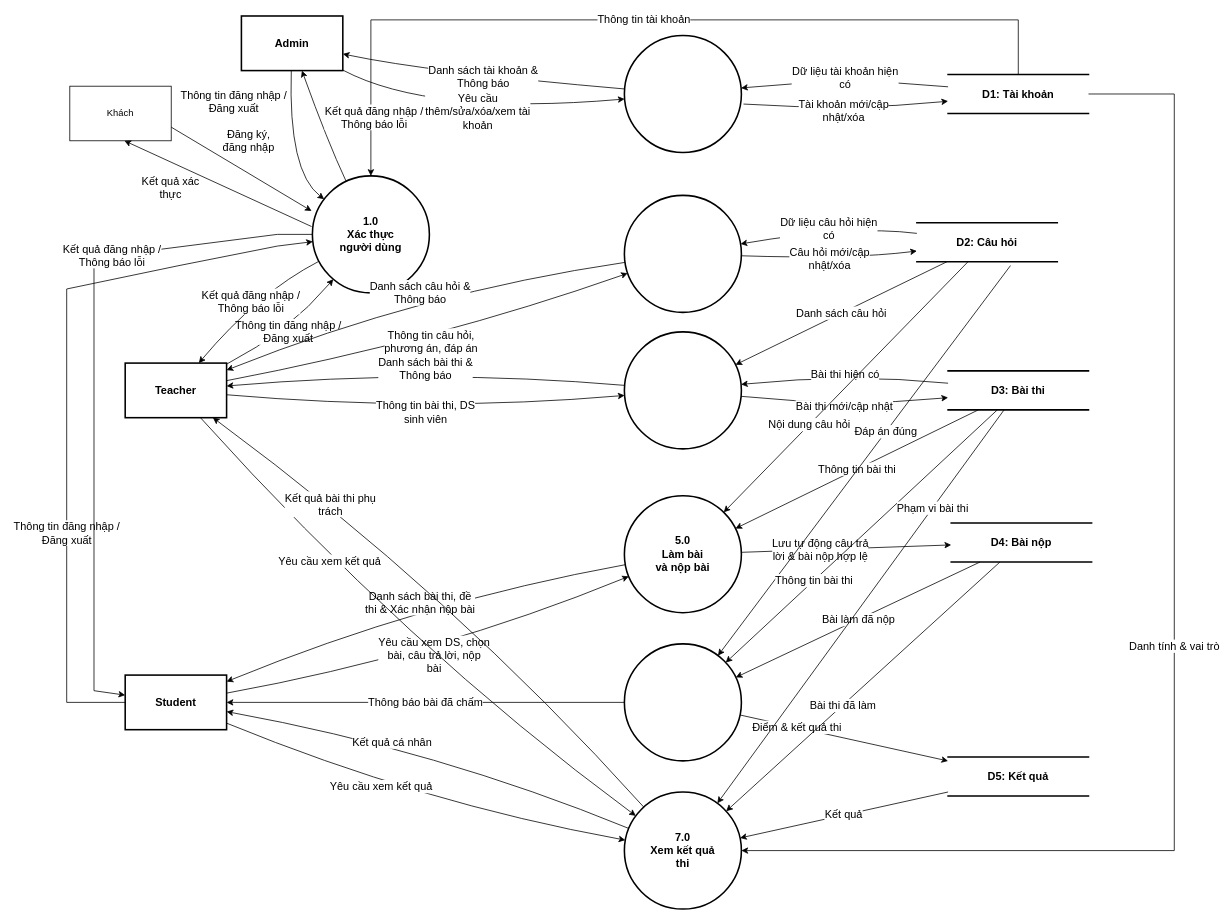
Image size: 1232x924. Some labels were removed from this diagram. Each missing label, with the centre of its shape:
2.0 Quản lý tài khoản: (682,93)
3.0 Quản lý câu hỏi: (682,253)
4.0 Quản lý bài thi: (682,390)
6.0 Chấm điểm tự động và lưu kết quả: (682,702)
